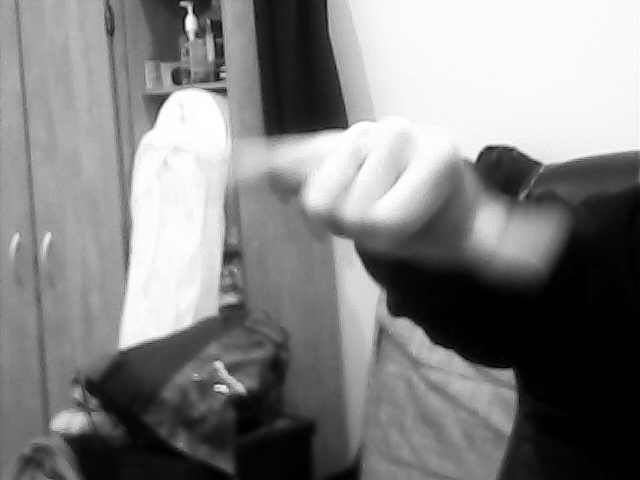aloha: (199, 110, 576, 277)
